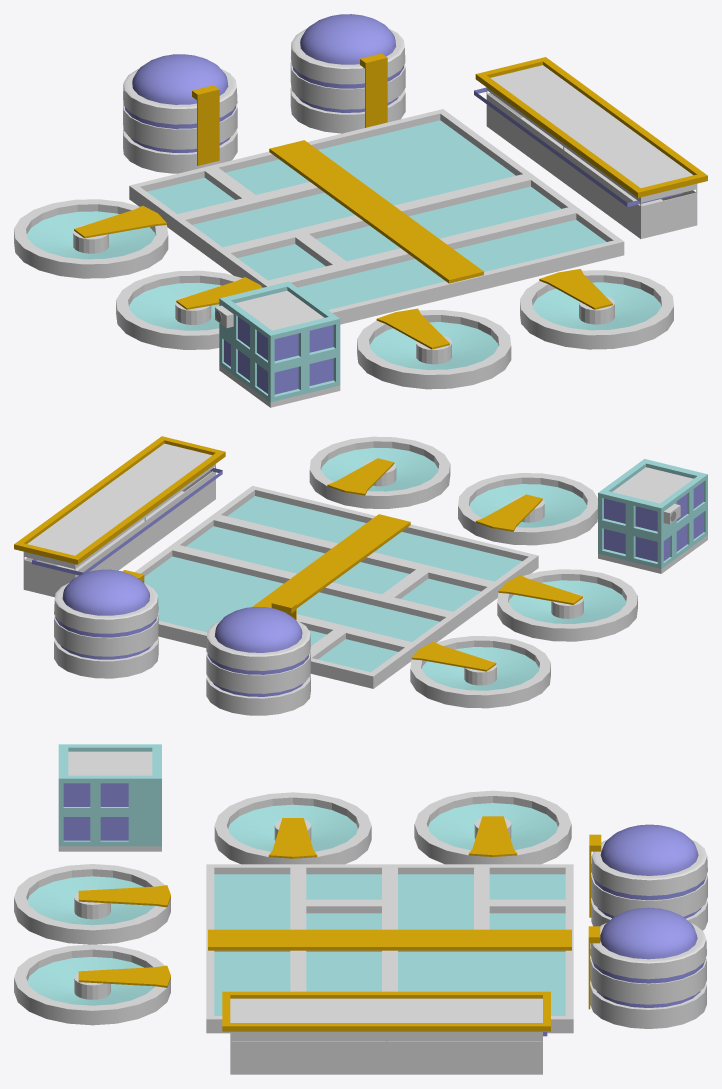
The model's file is WasteWaterPlant.fbx.
3 views of the same model, one above another, from view 1: azimuth 30°, elevation 25°; view 2: azimuth 150°, elevation 25°; view 3: azimuth 270°, elevation 25° (orthographic). The views are drawn at different scales.
Parts seen in each view (by area): view 1: pPlane2, pCube45, pCylinder8 (×2), pCube48, Water_01, Water_02, Water_04, pCube41, Water_03, pCube46, pCube42, pCube40 (×2) (+1 smaller); view 2: pPlane2, pCylinder8 (×2), pCube45, pCube48, Water_03, Water_04, Water_01, Water_02, pCube41, pCube46, pCube42, pCube49; view 3: pPlane2, pCube48, pCylinder8 (×2), pCube45, Water_02, Water_01, Water_04, Water_03, pCube41, pCube46, pCube42.
Boxes of the visible parts, x1,y1,x2,y2 form: pPlane2: [147, 120, 606, 309]; pCube45: [129, 109, 624, 324]; pCylinder8 (×2): [123, 14, 405, 173]; pCube48: [475, 57, 707, 238]; Water_01: [520, 269, 673, 349]; Water_02: [357, 308, 511, 389]; Water_04: [14, 199, 168, 278]; pCube41: [219, 281, 340, 407]; Water_03: [116, 270, 262, 349]; pCube46: [269, 140, 483, 283]; pCube42: [224, 317, 333, 394]; pCube40 (×2): [192, 53, 387, 165]; pPlane2: [144, 496, 522, 672]; pCylinder8 (×2): [54, 569, 310, 715]; pCube45: [134, 486, 538, 688]; pCube48: [14, 436, 225, 597]; Water_03: [497, 569, 637, 641]; Water_04: [410, 636, 550, 708]; Water_01: [309, 436, 450, 508]; Water_02: [458, 473, 597, 545]; pCube41: [598, 459, 707, 573]; pCube46: [252, 514, 410, 608]; pCube42: [604, 481, 703, 561]; pCube49: [32, 468, 222, 575]; pPlane2: [214, 874, 565, 1015]; pCube48: [222, 991, 550, 1074]; pCylinder8 (×2): [590, 824, 707, 1028]; pCube45: [206, 864, 573, 1033]; Water_02: [14, 864, 170, 944]; Water_01: [14, 944, 170, 1025]; Water_04: [414, 790, 571, 864]; Water_03: [214, 792, 371, 864]; pCube41: [58, 744, 161, 851]; pCube46: [208, 929, 571, 950]; pCube42: [63, 783, 128, 840].
Bounding box in the file's own units: 162 × 24.83 × 174.
